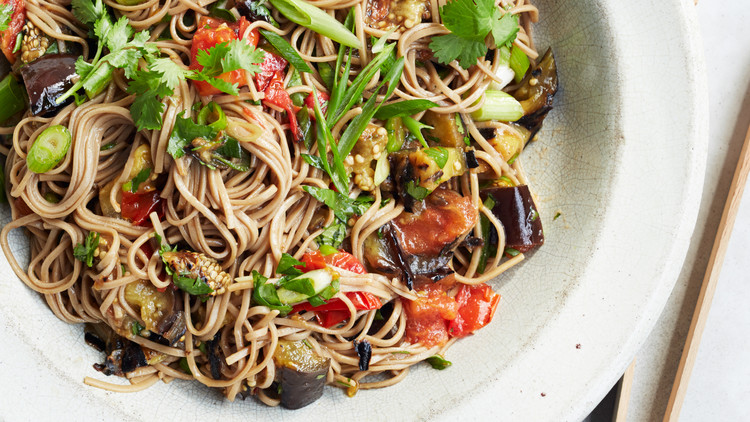Soba: (4, 1, 542, 395)
